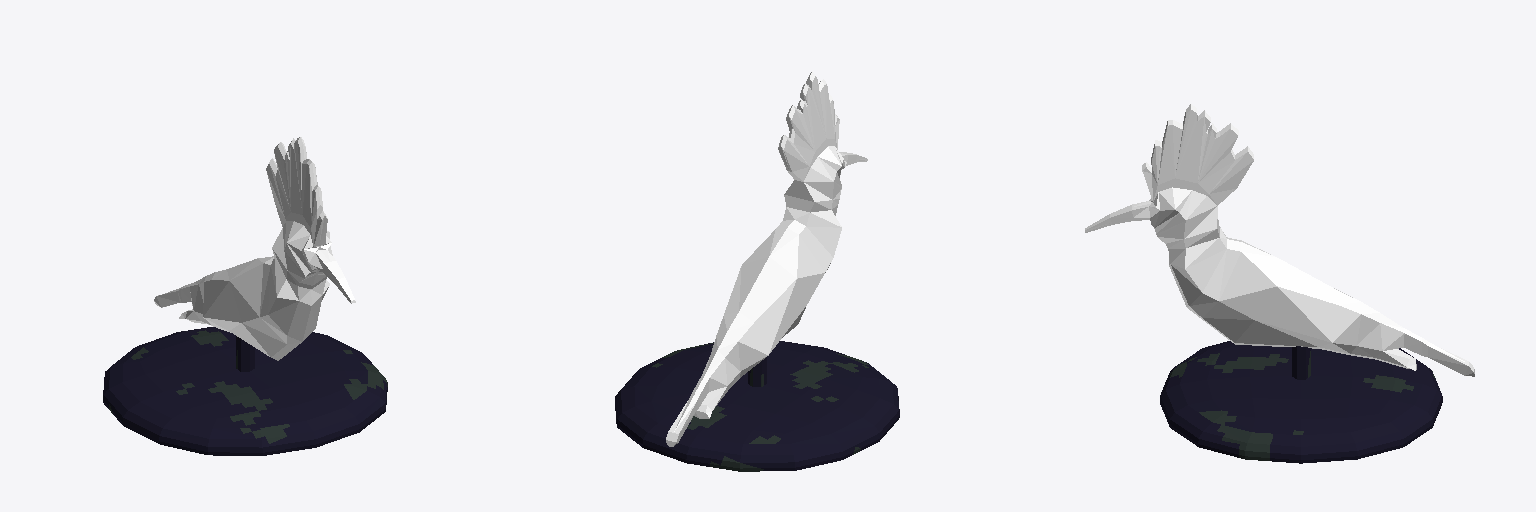
The picture shows the model from 3 angles: view 1: azimuth 30°, elevation 25°; view 2: azimuth 150°, elevation 25°; view 3: azimuth 270°, elevation 25°; orthographic projection.
Visible parts, largest first — view 1: Base_of_Statue, Hoopoe_Statue_(Thunderbird), Base_Stem_of_Statue; view 2: Base_of_Statue, Hoopoe_Statue_(Thunderbird); view 3: Hoopoe_Statue_(Thunderbird), Base_of_Statue, Base_Stem_of_Statue.
Boxes of the visible parts, <box> form: Base_of_Statue: <box>103,327,387,455</box>; Hoopoe_Statue_(Thunderbird): <box>154,137,355,360</box>; Base_Stem_of_Statue: <box>236,336,254,371</box>; Base_of_Statue: <box>615,341,899,471</box>; Hoopoe_Statue_(Thunderbird): <box>666,71,867,446</box>; Hoopoe_Statue_(Thunderbird): <box>1085,104,1474,376</box>; Base_of_Statue: <box>1160,341,1442,463</box>; Base_Stem_of_Statue: <box>1292,346,1310,379</box>.
Bounding box in the file's own units: 0.9167 × 1.09 × 1.26.
Materials: 2 (1 with a texture image).